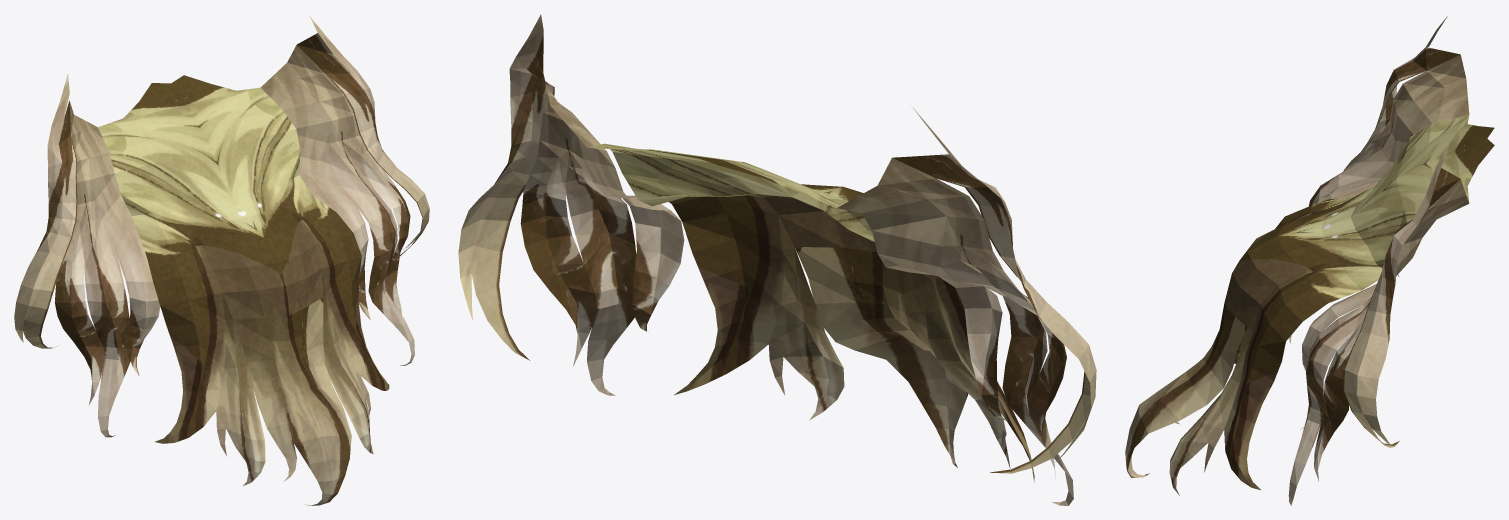
Rendered from skinSource0PJE.obj.
3 renders of one model, left to right at view 1: azimuth 30°, elevation 25°; view 2: azimuth 150°, elevation 25°; view 3: azimuth 270°, elevation 25°, orthographic. The views are drawn at different scales.
Visible parts, largest first — view 1: skinSource0PJE; view 2: skinSource0PJE; view 3: skinSource0PJE.
Boxes of the visible parts, x1,y1,x2,y2 form: skinSource0PJE: [14, 15, 429, 505]; skinSource0PJE: [458, 14, 1096, 505]; skinSource0PJE: [1125, 16, 1494, 505].
Size of the model in its own units: 39.54 by 33.03 by 27.38.
